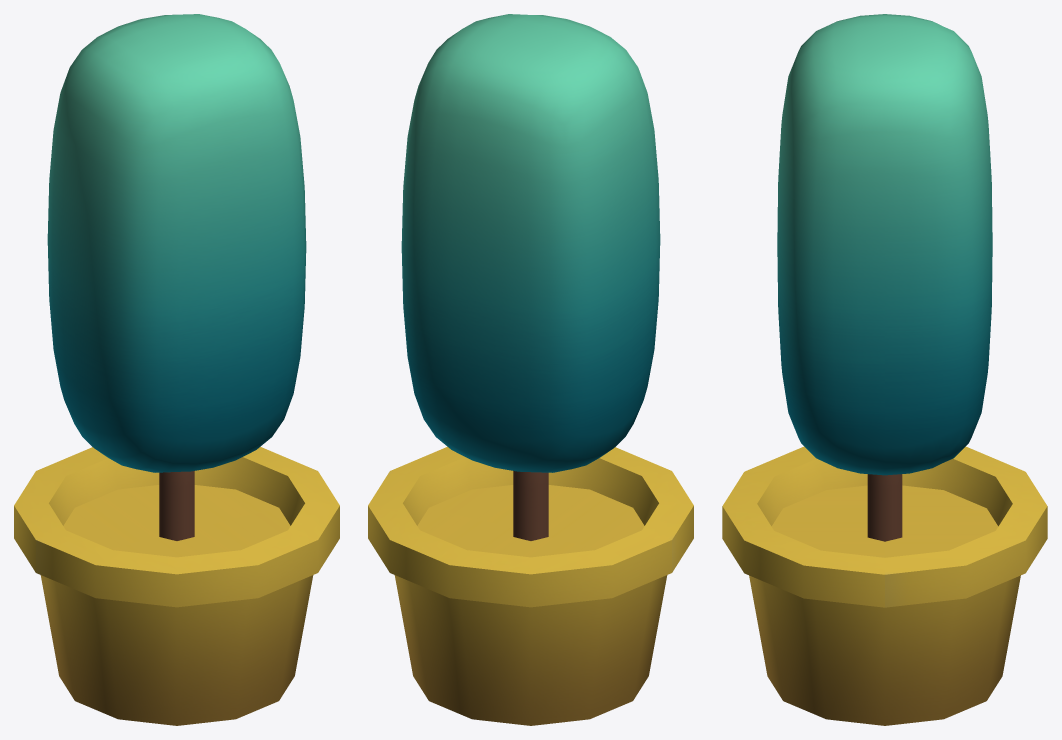
The model's file is Plant_03.fbx.
3 views of the same model, side by side, from view 1: azimuth 30°, elevation 25°; view 2: azimuth 150°, elevation 25°; view 3: azimuth 270°, elevation 25° (orthographic).
Visible parts, largest first — view 1: Cylinder007; view 2: Cylinder007; view 3: Cylinder007.
Part boxes in pixels (x1,y1,x2,y2): Cylinder007: (14,14,339,725); Cylinder007: (368,14,693,725); Cylinder007: (722,14,1047,725).
Bounding box in the file's own units: 82.46 × 179 × 82.46.
